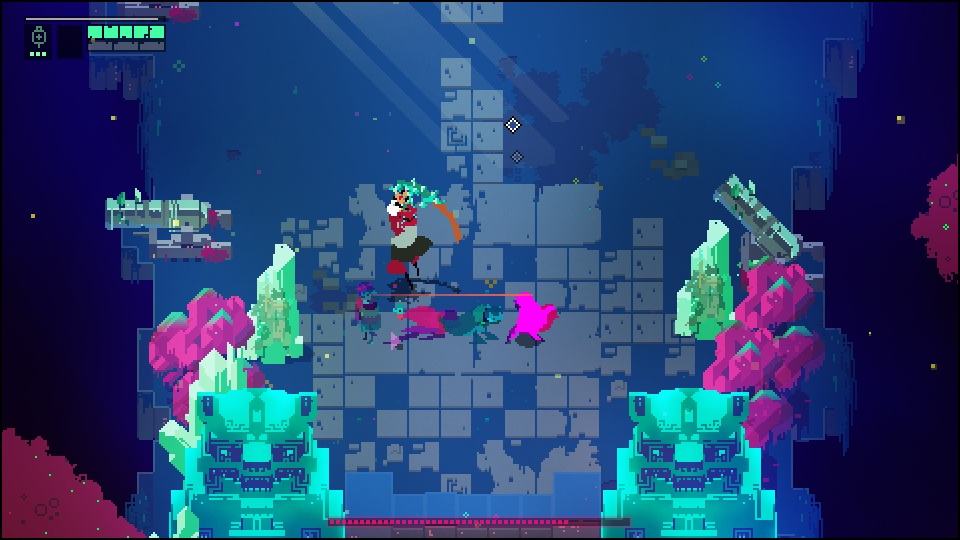hanged_man: (374, 176, 451, 285)
player: (508, 286, 552, 347)
